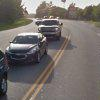Car: (4, 23, 51, 70)
